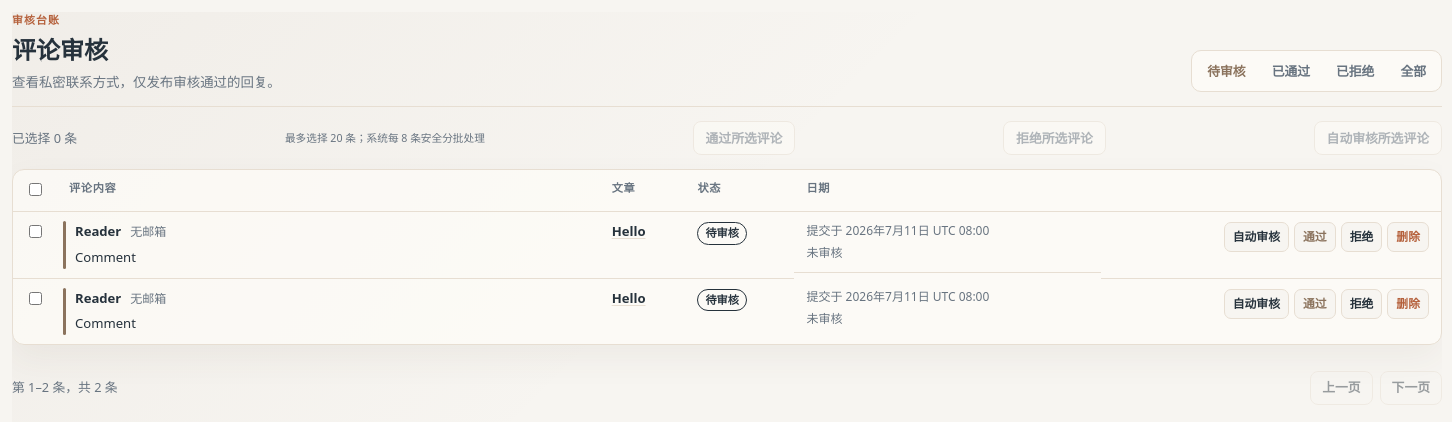
Test: CommentModerationView › manually approves selected comments and updates the pending list locally
Click the checkbox with test id "comment-select-page": {"x": 36, "y": 190} [29,184,42,196]
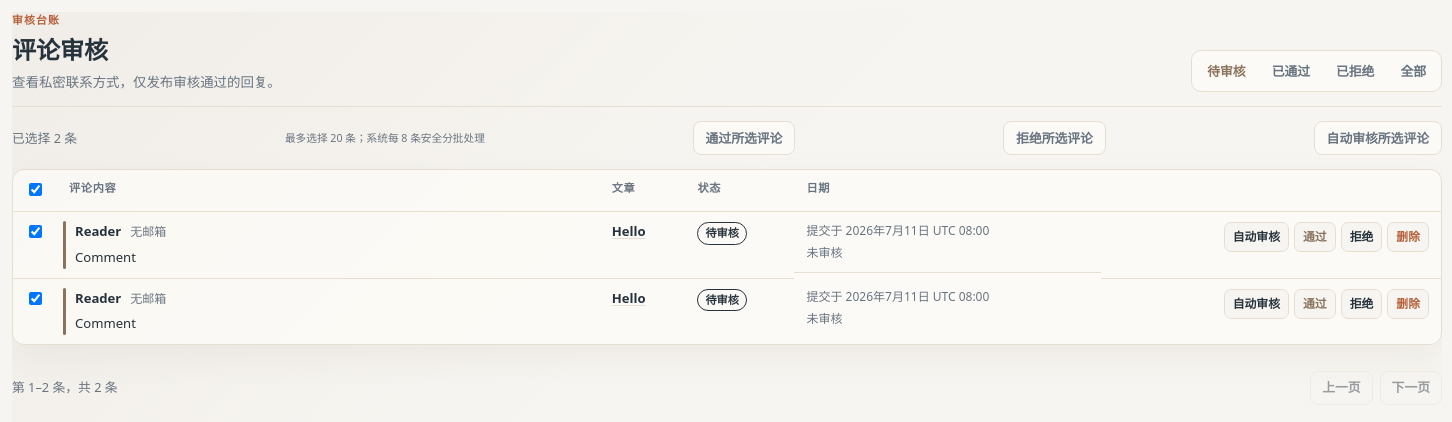
Click the button with test id "comment-approve-selected": {"x": 744, "y": 138} [692,122,795,156]
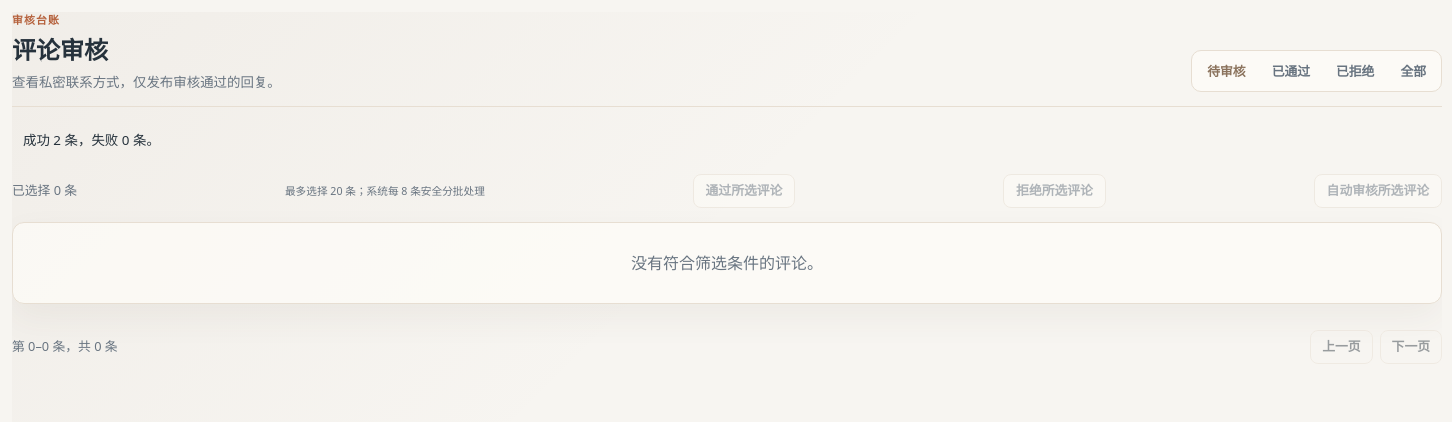
Result: the message with test id "comment-action-notice" shows "成功 2 条，失败 0 条" at [23,132,160,150]
